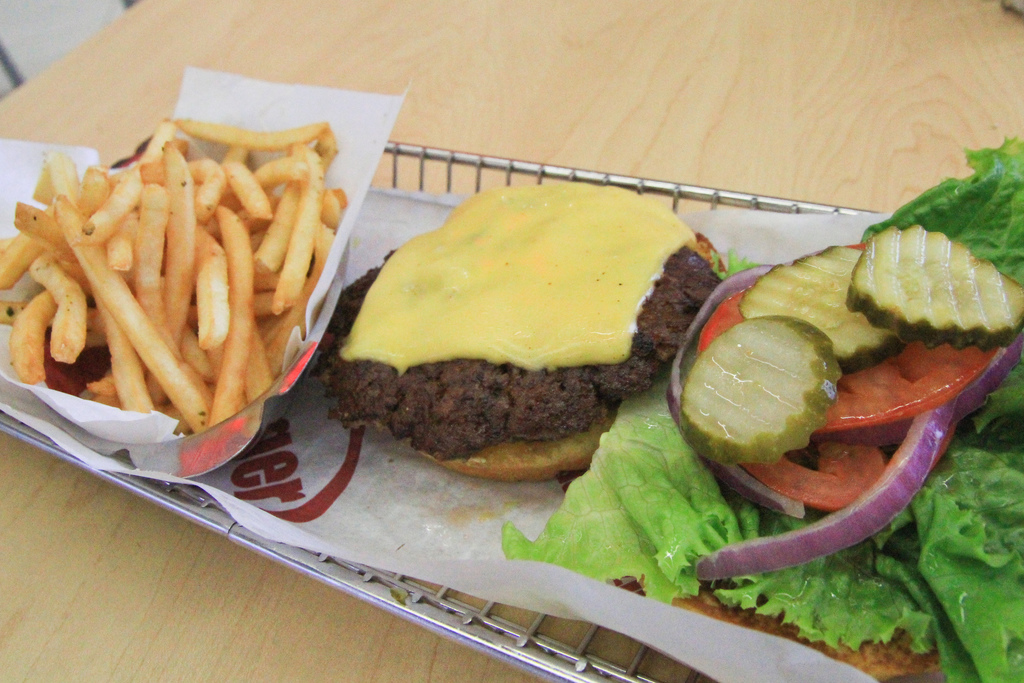French fries: (0, 105, 351, 451)
